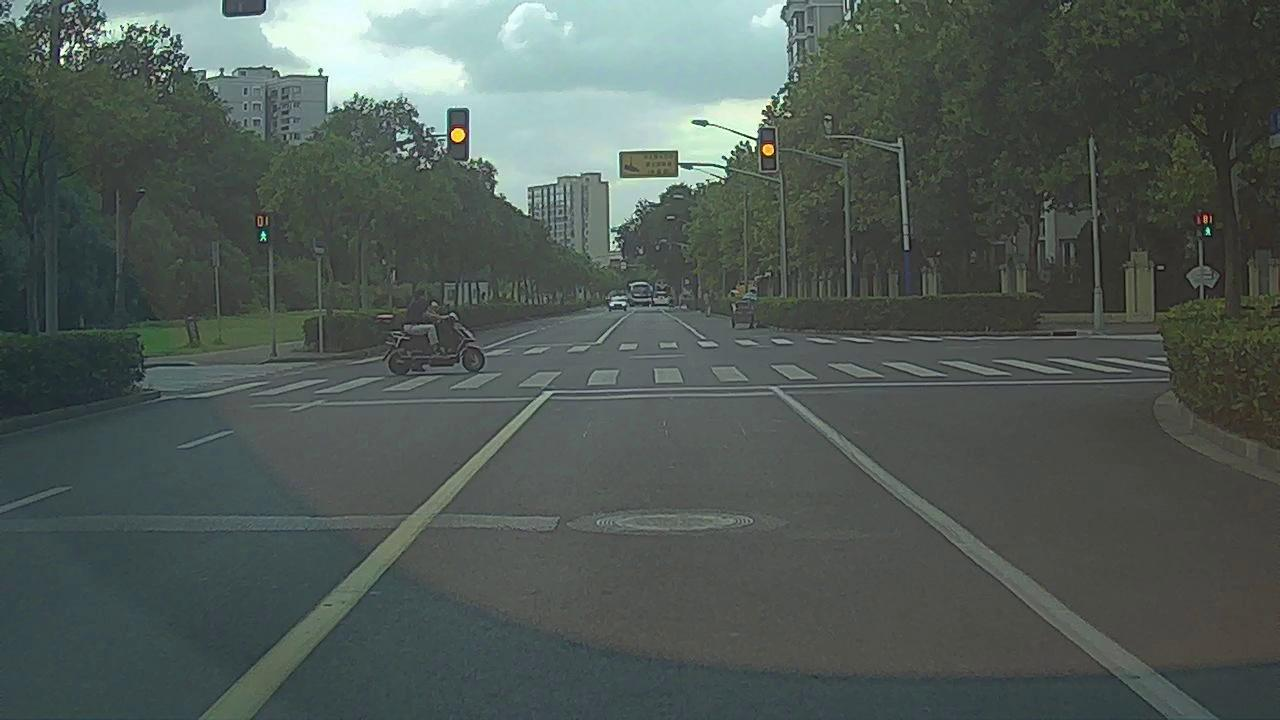traffic_light: (449, 108, 468, 161), (761, 128, 776, 171)
